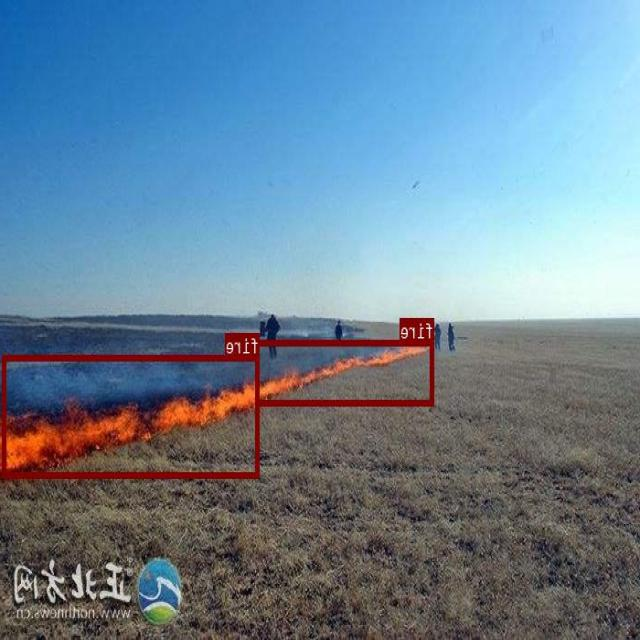fire: (3, 354, 260, 476), (257, 339, 435, 405)
